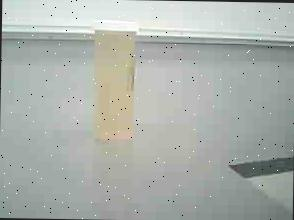Bottle A: (81, 10, 152, 166)
